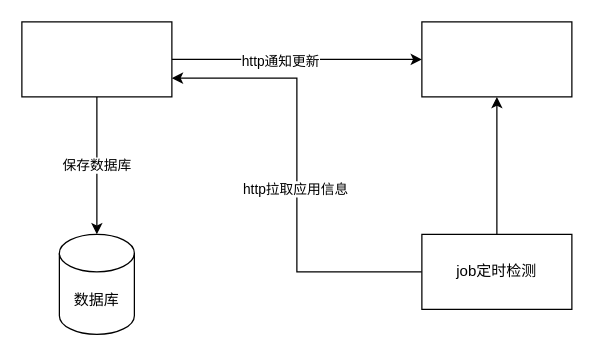
This 594x356 diagram has some shape labels left out. The shapes that lost their labels are listed below. From the top down, each one's box as (x1, y1, x2, y2) in pixels, then its label:
(21, 21, 172, 97): 下发应用
(421, 21, 572, 97): 更新应用
